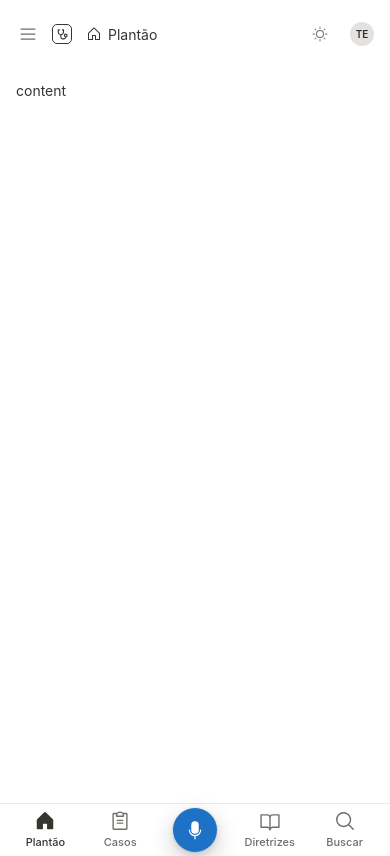
AppShell navigation › removes audit from the physician shell and exposes profile/settings
Press the mouse on the button with aria-label "abrir menu do usuário": (362,34) [342,14,382,54]
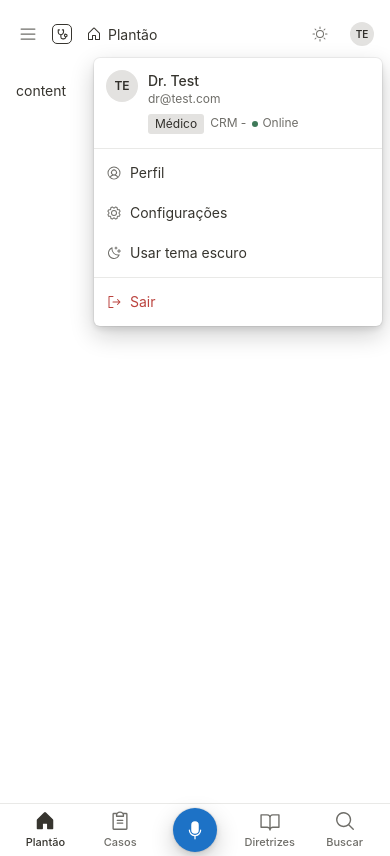
Expected: the menu item "Perfil" is shown, [106,164,164,181]
Expected: the menu item "Configurações" is shown, [106,204,227,221]
